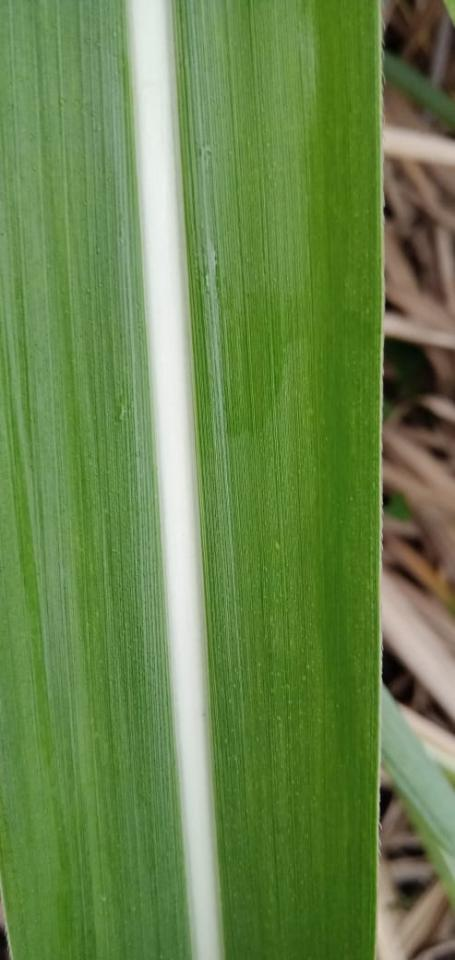Healthy: (0, 0, 381, 959)
